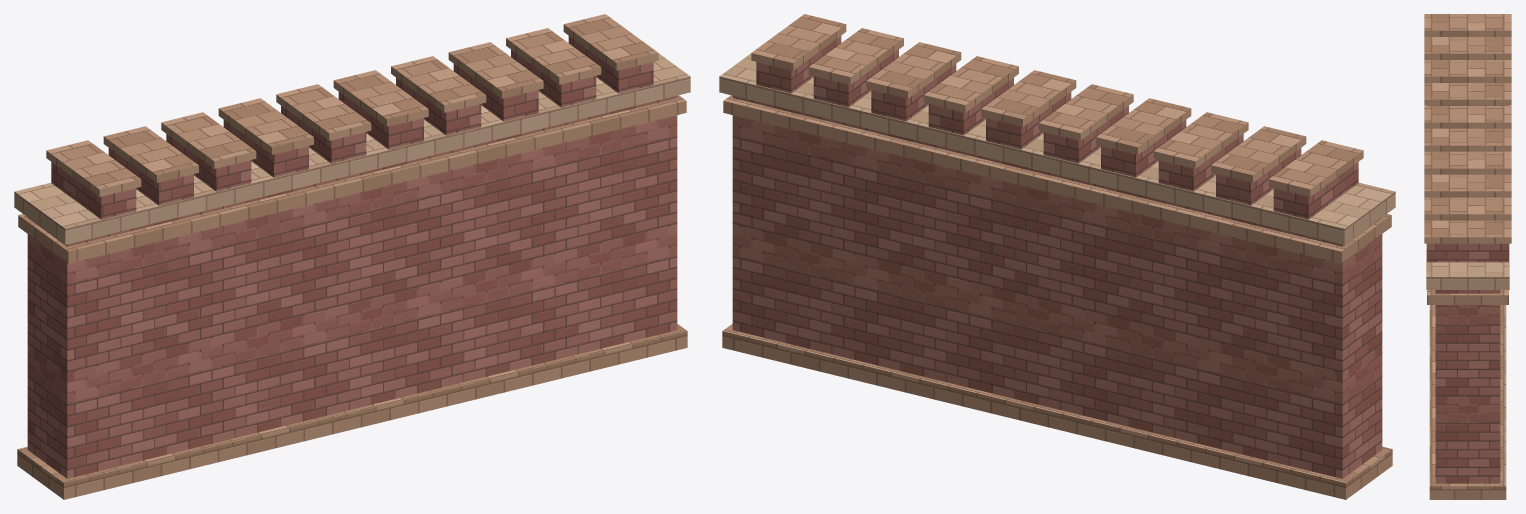
The model's file is Wall_Straight_8m.obj.
3 views of the same model, side by side, from view 1: azimuth 30°, elevation 25°; view 2: azimuth 150°, elevation 25°; view 3: azimuth 270°, elevation 25° (orthographic). The views are drawn at different scales.
Visible parts, largest first — view 1: Brick_Rose, Stone_Sand, Stone_Light; view 2: Brick_Rose, Stone_Sand, Stone_Light; view 3: Stone_Sand, Brick_Rose, Stone_Light.
Boxes of the visible parts, box(x1,y1,x2,y2) form: Brick_Rose: box(27, 36, 677, 478); Stone_Sand: box(17, 14, 687, 499); Stone_Light: box(14, 53, 690, 244); Brick_Rose: box(732, 36, 1382, 478); Stone_Sand: box(722, 14, 1392, 499); Stone_Light: box(719, 53, 1395, 244); Stone_Sand: box(1424, 14, 1511, 499); Brick_Rose: box(1427, 105, 1508, 483); Stone_Light: box(1426, 105, 1509, 289).
Size of the model in its own units: 8.2 by 3.82 by 1.21.
Materials: 3 (3 with a texture image).
